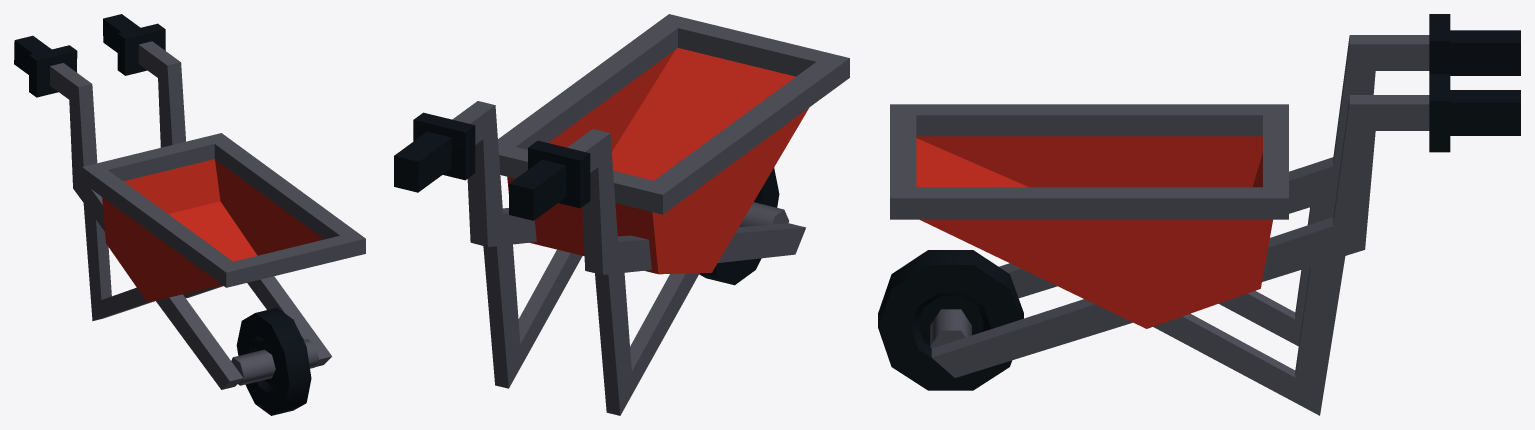
Rendered from Barrow_3.fbx.
3 views of the same model, side by side, from view 1: azimuth 30°, elevation 25°; view 2: azimuth 150°, elevation 25°; view 3: azimuth 270°, elevation 25° (orthographic). The views are drawn at different scales.
Visible parts, largest first — view 1: Barrow_3; view 2: Barrow_3; view 3: Barrow_3.
Boxes of the visible parts, bbox=[...] form: Barrow_3: bbox=[14, 14, 365, 415]; Barrow_3: bbox=[394, 14, 849, 415]; Barrow_3: bbox=[878, 14, 1520, 415].
Size of the model in its own units: 30.29 by 48.89 by 87.43.
